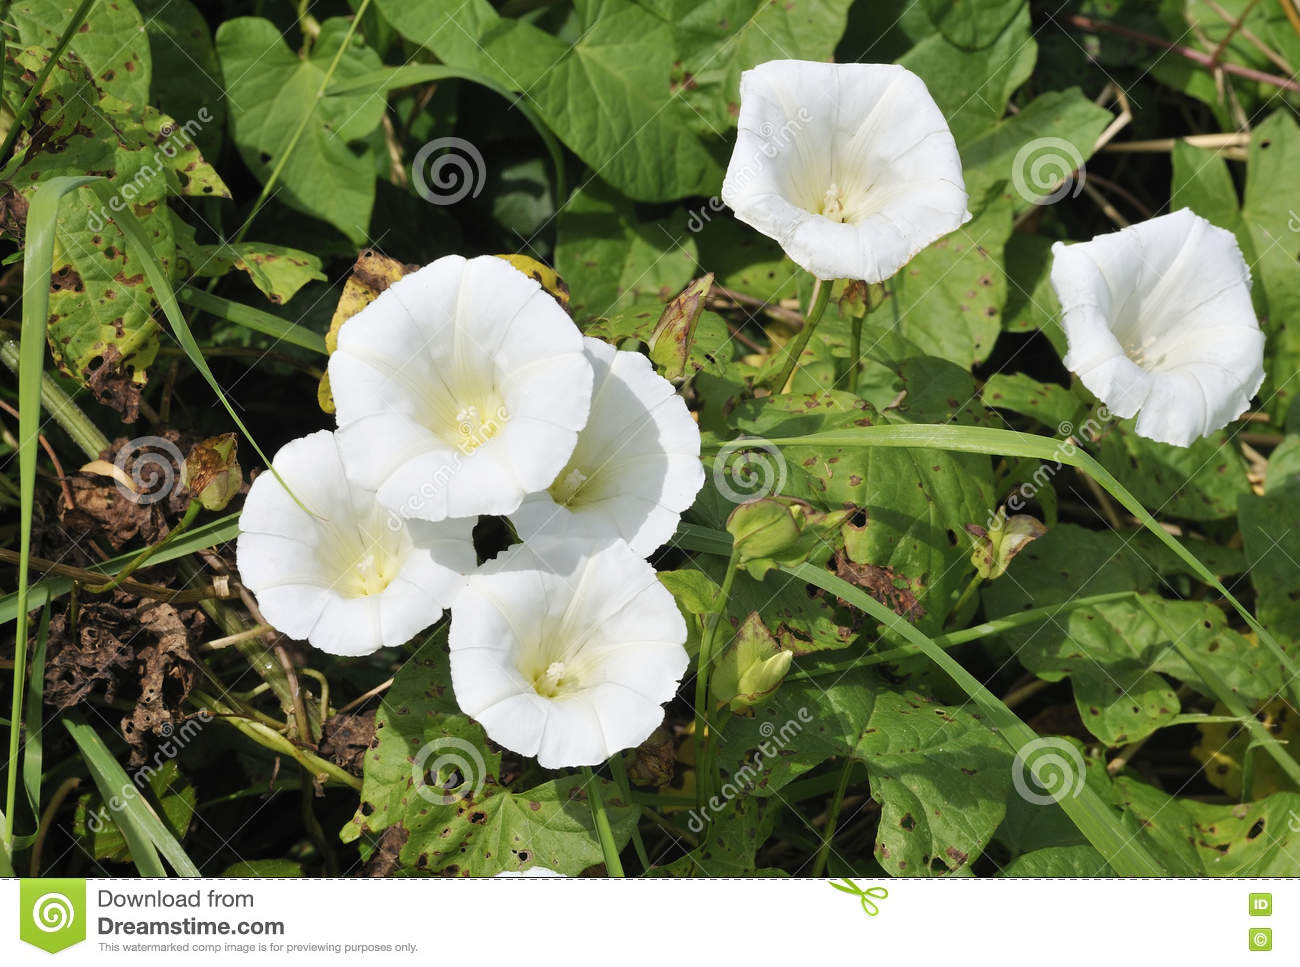haagwinde: (222, 264, 722, 799), (1023, 185, 1293, 489), (698, 50, 992, 291), (205, 10, 402, 257), (468, 5, 703, 205)
